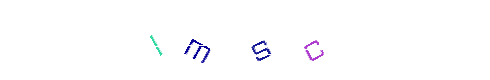1: (115, 0, 195, 80)
C: (245, 0, 325, 80)
M: (187, 0, 267, 80)
S: (205, 0, 285, 80)
